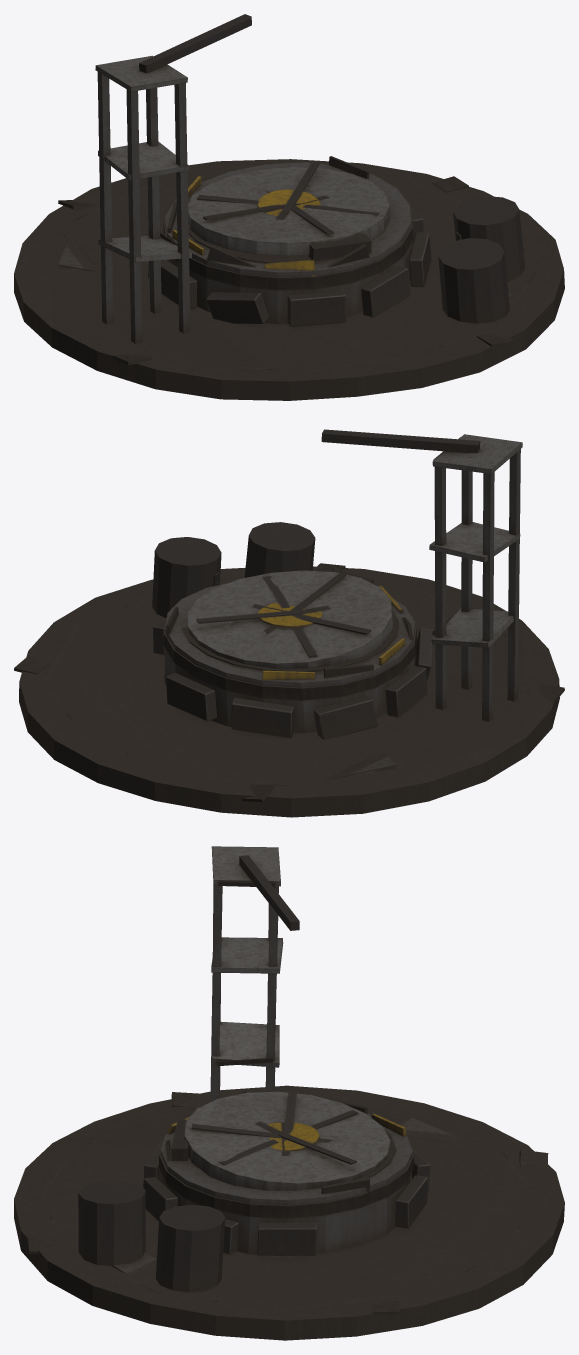
Rendered from chs_ragnarok_wreck.fbx.
3 views of the same model, one above another, from view 1: azimuth 30°, elevation 25°; view 2: azimuth 150°, elevation 25°; view 3: azimuth 270°, elevation 25° (orthographic).
Visible parts, largest first — view 1: base_bar, hatch_bar; view 2: base_bar, hatch_bar; view 3: base_bar, hatch_bar.
Part boxes in pixels (x1,y1,x2,y2): base_bar: (14, 14, 564, 400); hatch_bar: (188, 162, 390, 261); base_bar: (14, 429, 564, 817); hatch_bar: (187, 566, 393, 671); base_bar: (14, 846, 564, 1340); hatch_bar: (171, 1091, 390, 1190).
Bounding box in the file's own units: 2017 × 1346 × 2009.
Materials: 2 (2 with a texture image).
